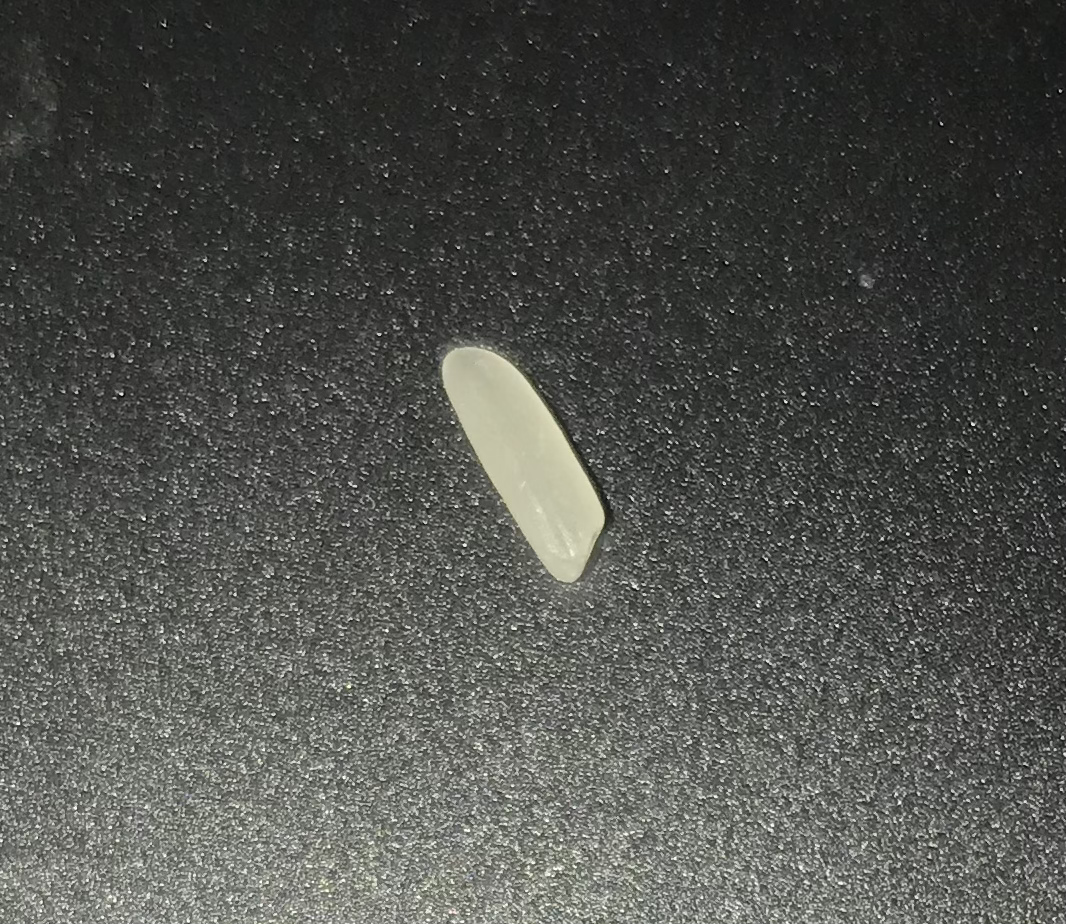Gao Thom My: (434, 327, 613, 599)
